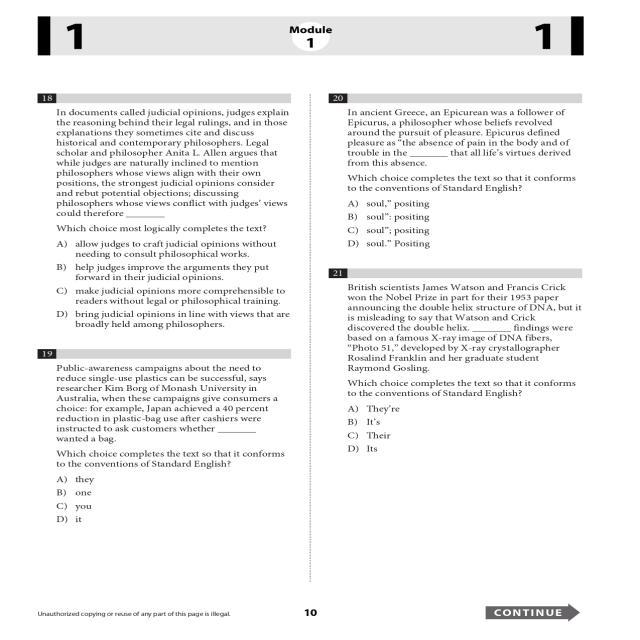Answer_Block: (317, 401, 594, 579), (30, 468, 301, 580), (30, 236, 301, 335), (317, 194, 594, 249)
Question_Answer_Block: (317, 268, 594, 579), (30, 88, 301, 334), (30, 347, 301, 580), (317, 88, 594, 249)
Question_Block: (30, 88, 301, 234), (317, 268, 594, 399), (30, 347, 301, 469), (317, 88, 594, 195)
Question_Paper_Area: (317, 88, 594, 579), (30, 88, 301, 580)
